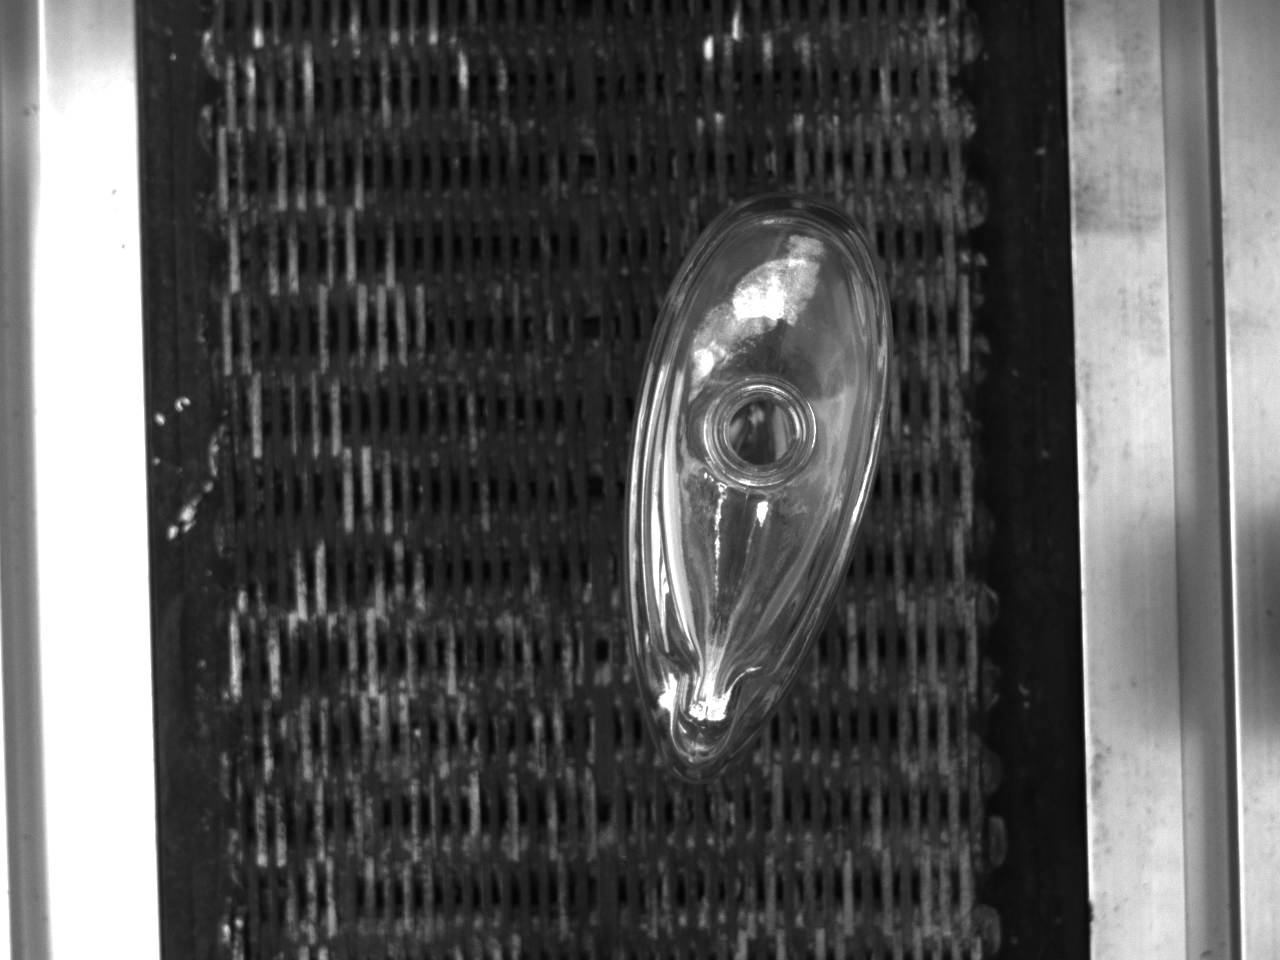bottleneck: (707, 378, 817, 482)
